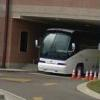Bus: (35, 21, 98, 78)
